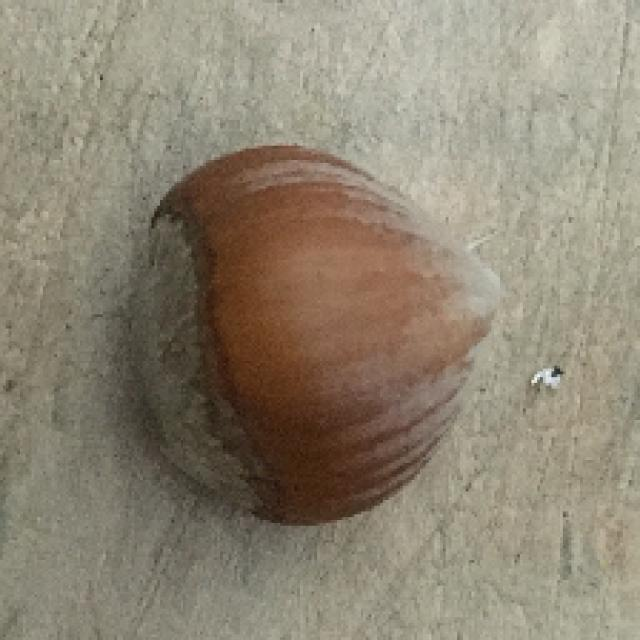QualityHazelnut: (131, 136, 512, 520)
